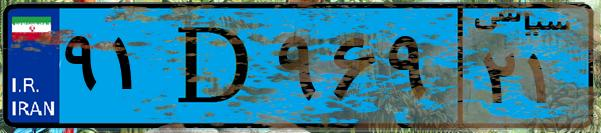1: (525, 38, 570, 115), (110, 28, 158, 98)
2: (475, 38, 525, 113)
6: (330, 28, 385, 110)
9: (270, 28, 330, 110), (385, 28, 445, 110), (57, 26, 110, 100)
D: (158, 12, 270, 120)
